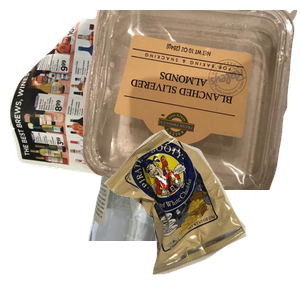glass: (86, 120, 277, 300)
paper: (10, 15, 196, 195)
plastic: (83, 10, 300, 190)
trash: (101, 127, 300, 300)
